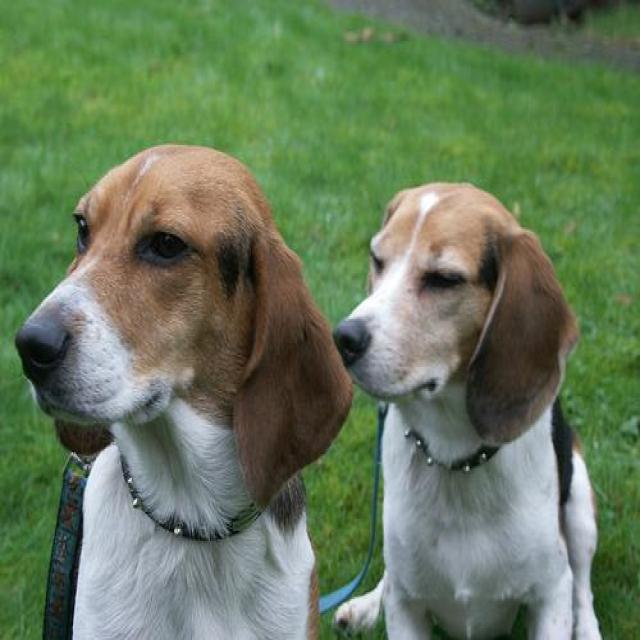beagle: (0, 138, 357, 637), (332, 181, 602, 638)
